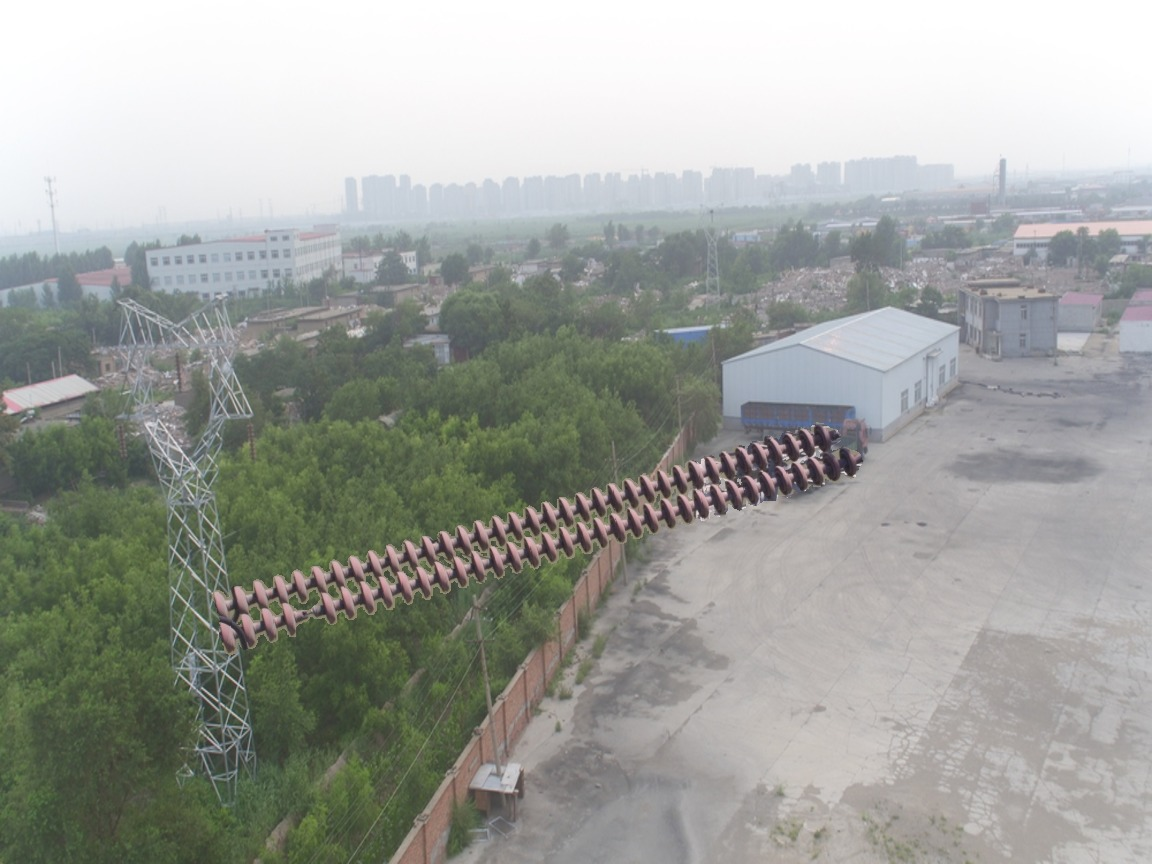defect: (276, 590, 342, 635)
